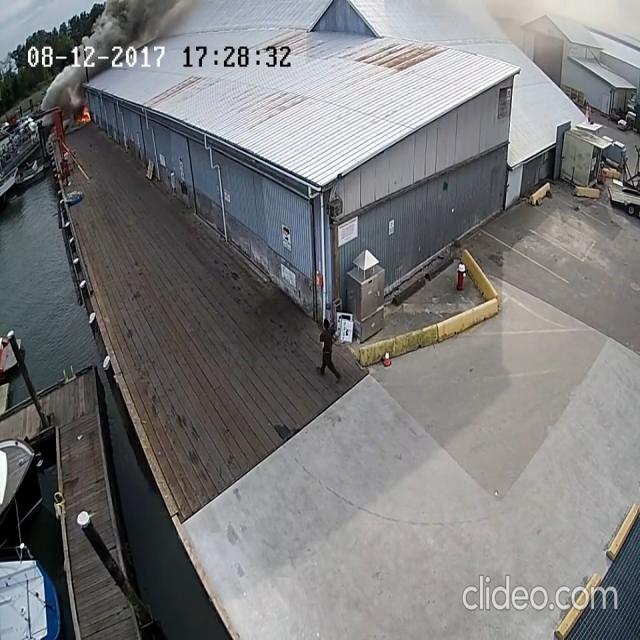fire: (78, 104, 92, 124)
